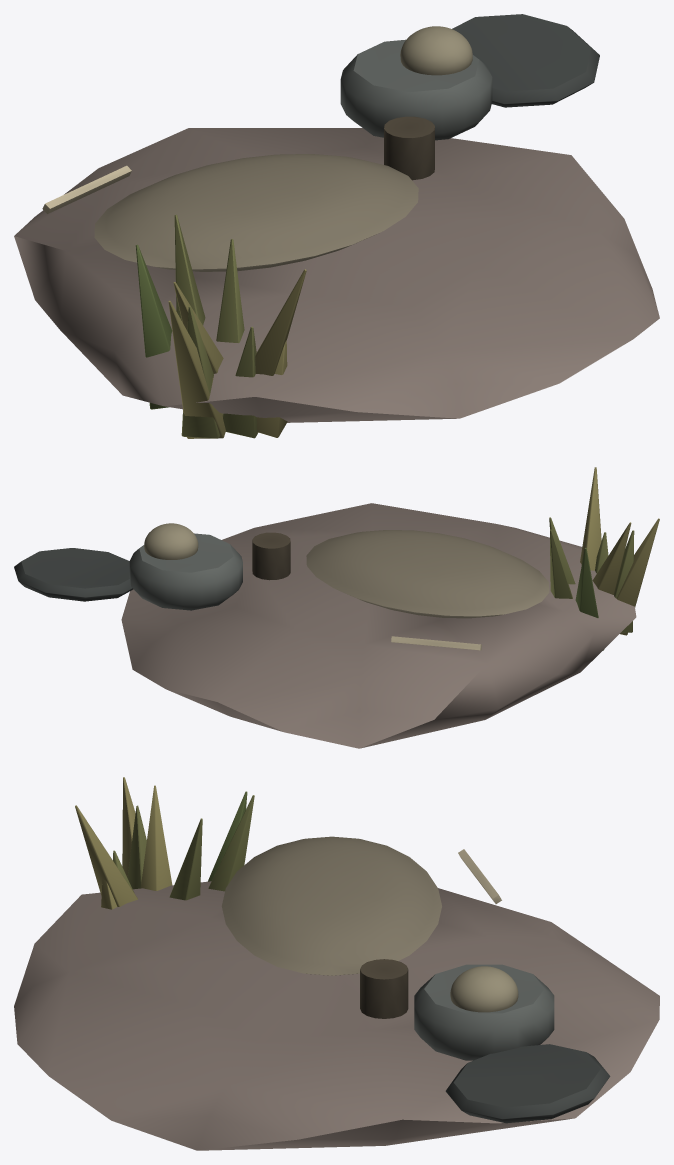
The model's file is patch_bolt_c.glb.
The picture shows the model from 3 angles, top to bottom: view 1: azimuth 30°, elevation 25°; view 2: azimuth 150°, elevation 25°; view 3: azimuth 270°, elevation 25°; orthographic projection. The views are drawn at different scales.
Parts seen in each view (by area): view 1: Surface; view 2: Surface; view 3: Surface.
Part boxes in pixels (bbox=[...]): Surface: bbox=[14, 14, 659, 438]; Surface: bbox=[14, 467, 659, 748]; Surface: bbox=[14, 777, 659, 1150].
Bounding box in the file's own units: 1.57 × 0.502 × 1.48.
